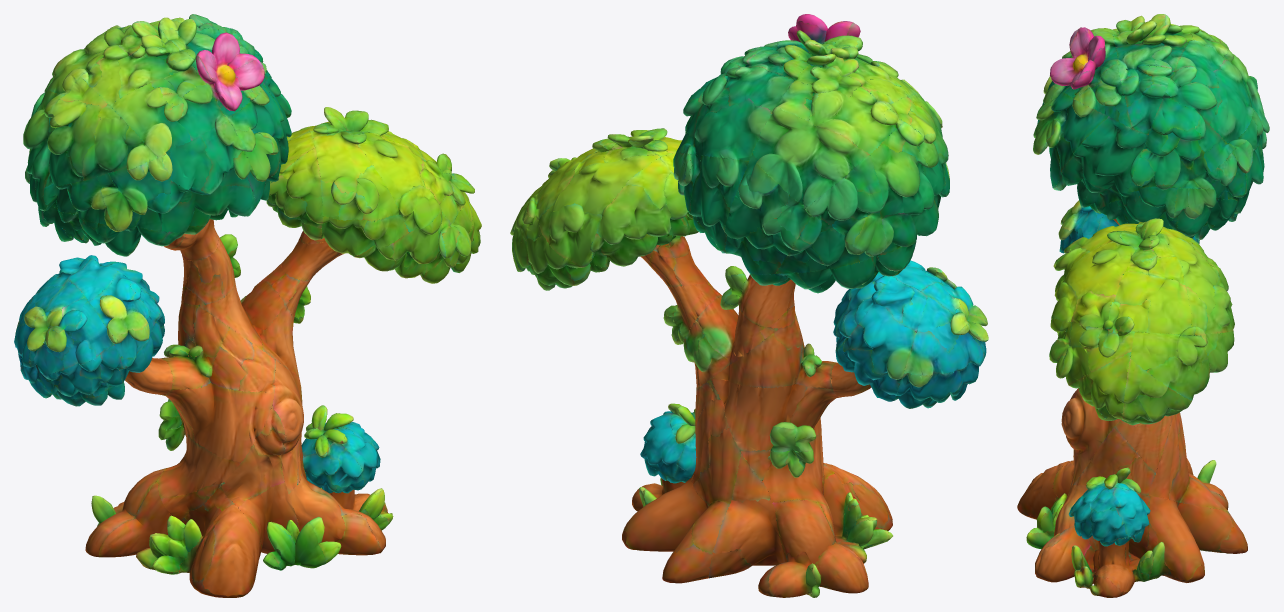
File: blossom-tree.glb
3 renders of one model, left to right at view 1: azimuth 30°, elevation 25°; view 2: azimuth 150°, elevation 25°; view 3: azimuth 270°, elevation 25°, orthographic. The views are drawn at different scales.
Visible parts, largest first — view 1: Mesh_0; view 2: Mesh_0; view 3: Mesh_0.
Part boxes in pixels (<box>): Mesh_0: <box>14,14,481,597</box>; Mesh_0: <box>510,14,988,597</box>; Mesh_0: <box>1017,14,1269,597</box>.
Bounding box in the file's own units: 1.72 × 1.91 × 0.8942.
1 material, 1 textured.
